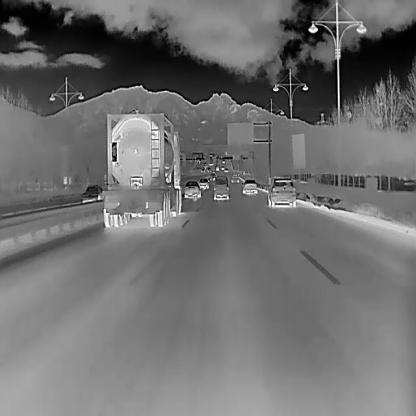car: (266, 177, 296, 207), (80, 184, 104, 202), (213, 175, 228, 200), (184, 180, 201, 199), (241, 179, 257, 193), (198, 178, 209, 188), (230, 173, 239, 183), (214, 164, 218, 172), (221, 158, 226, 164), (206, 167, 211, 172), (200, 168, 205, 172), (223, 168, 228, 172), (221, 165, 224, 169)
truck: (102, 112, 185, 228)
